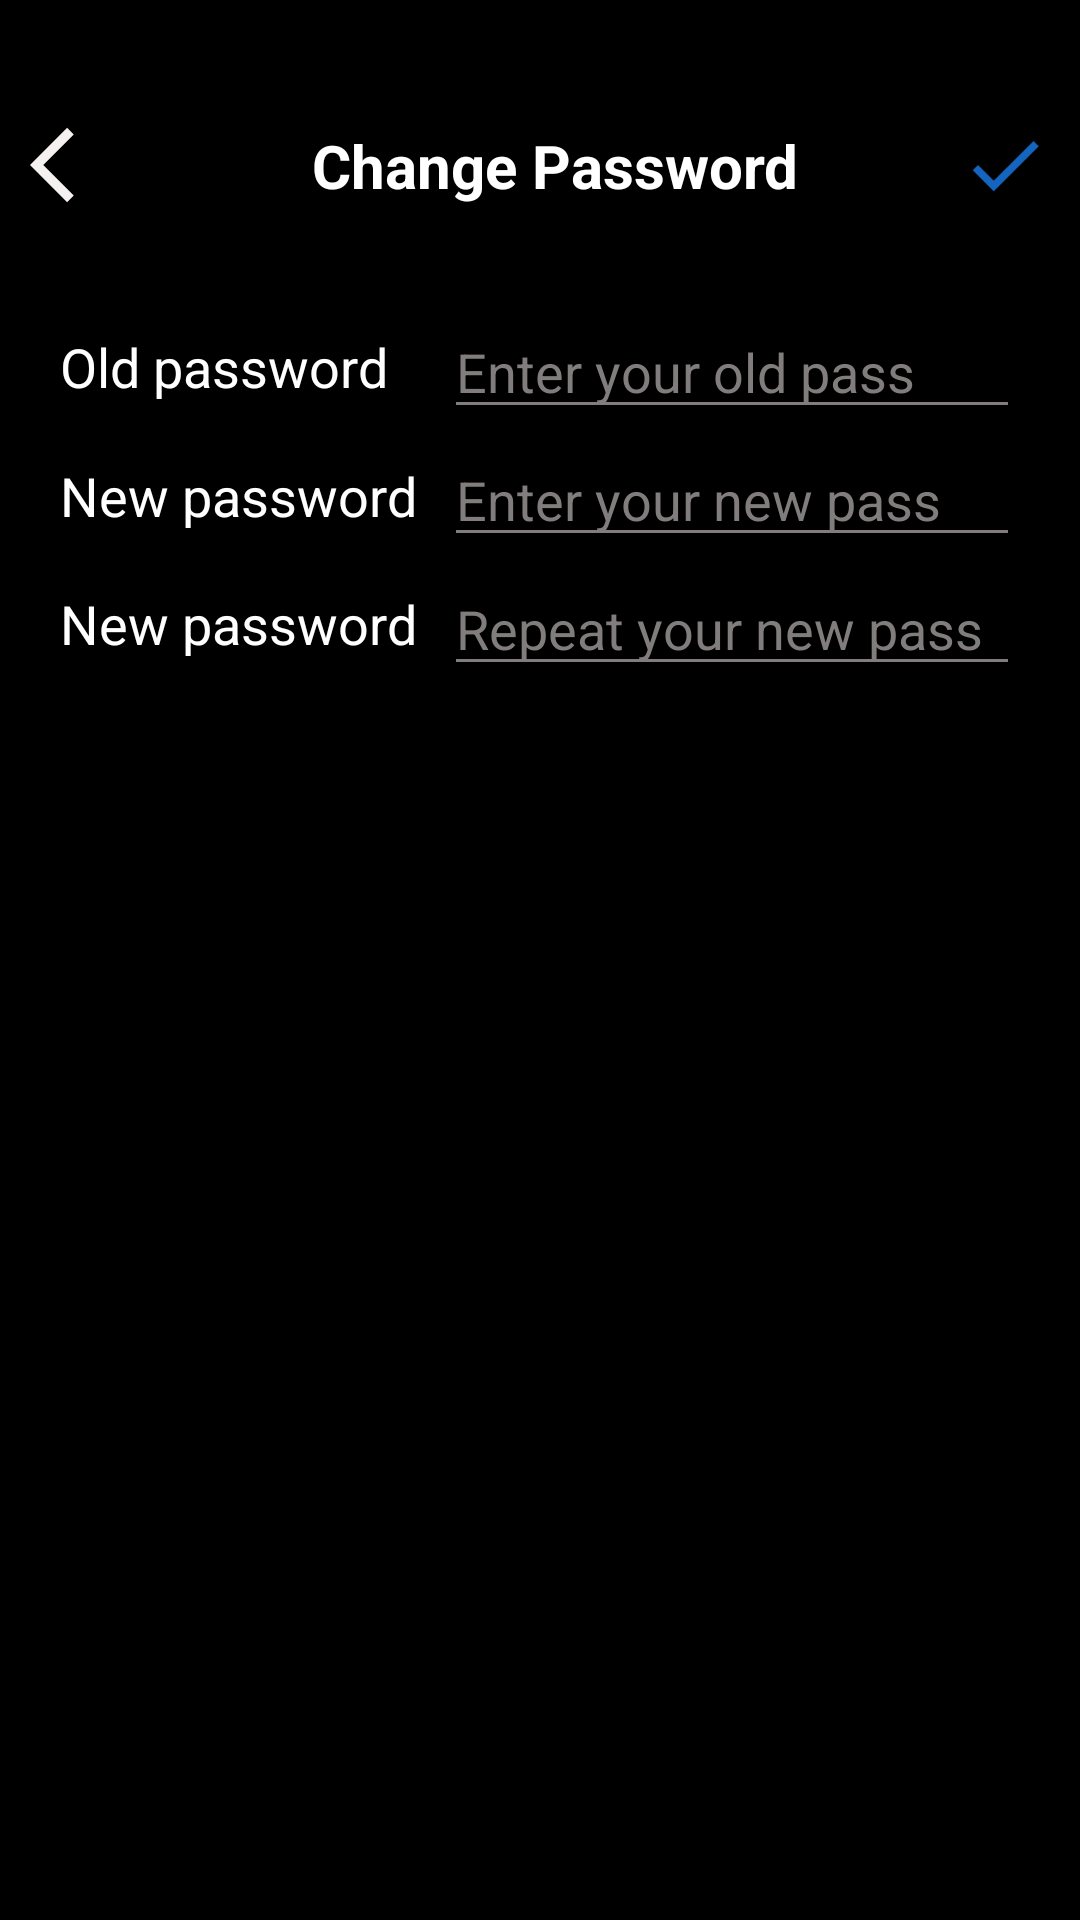

Screen size 1080 × 1920. Icon name, then its box in pixels as (x1, y1, x2, y2):
back: (30, 128, 74, 202)
done: (973, 141, 1039, 192)
